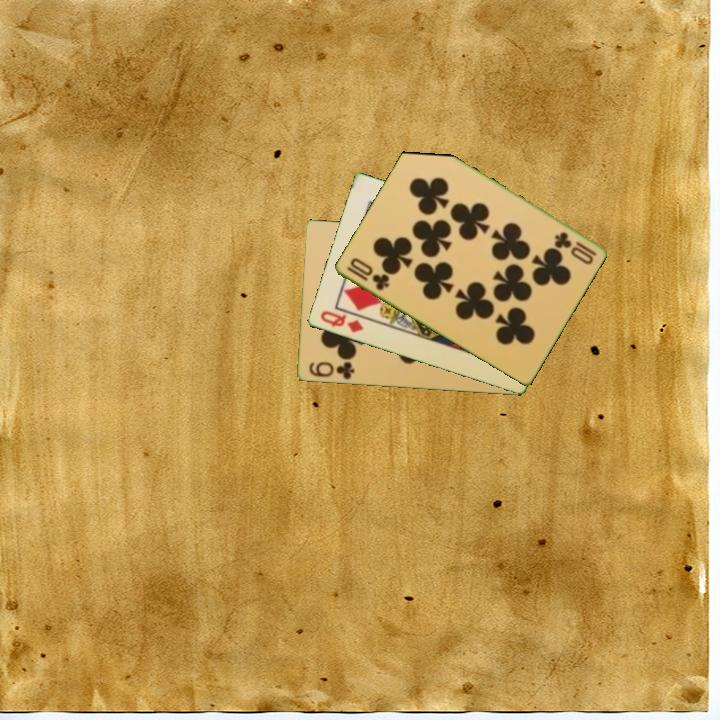10c: (343, 254, 392, 294), (550, 228, 599, 267)
6c: (305, 358, 357, 383)
Qd: (316, 307, 366, 336)
